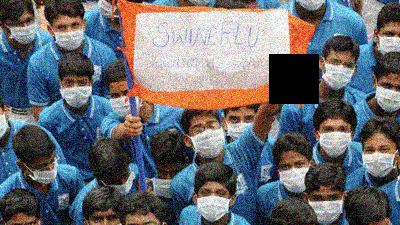with_mask: (190, 119, 225, 159), (360, 142, 397, 179), (110, 86, 144, 123), (59, 77, 94, 111), (309, 191, 344, 225), (197, 185, 229, 222), (279, 157, 310, 194), (323, 55, 355, 90), (320, 123, 351, 159), (53, 19, 86, 50), (225, 112, 256, 145), (27, 155, 58, 186), (374, 79, 400, 113), (8, 15, 36, 45), (104, 170, 135, 197), (377, 28, 400, 55)
